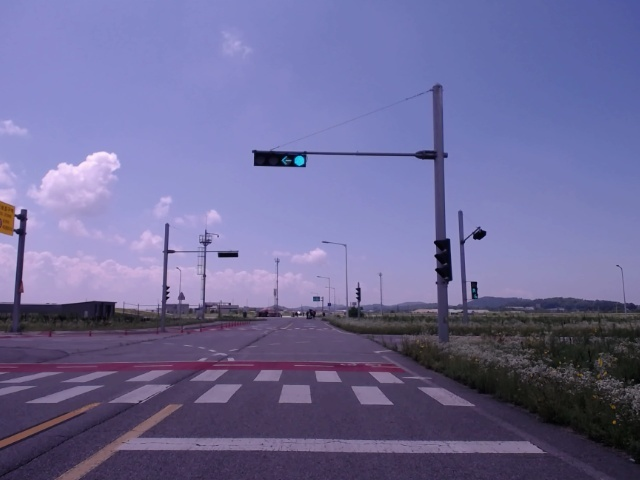all_green_4: (255, 150, 311, 166)
